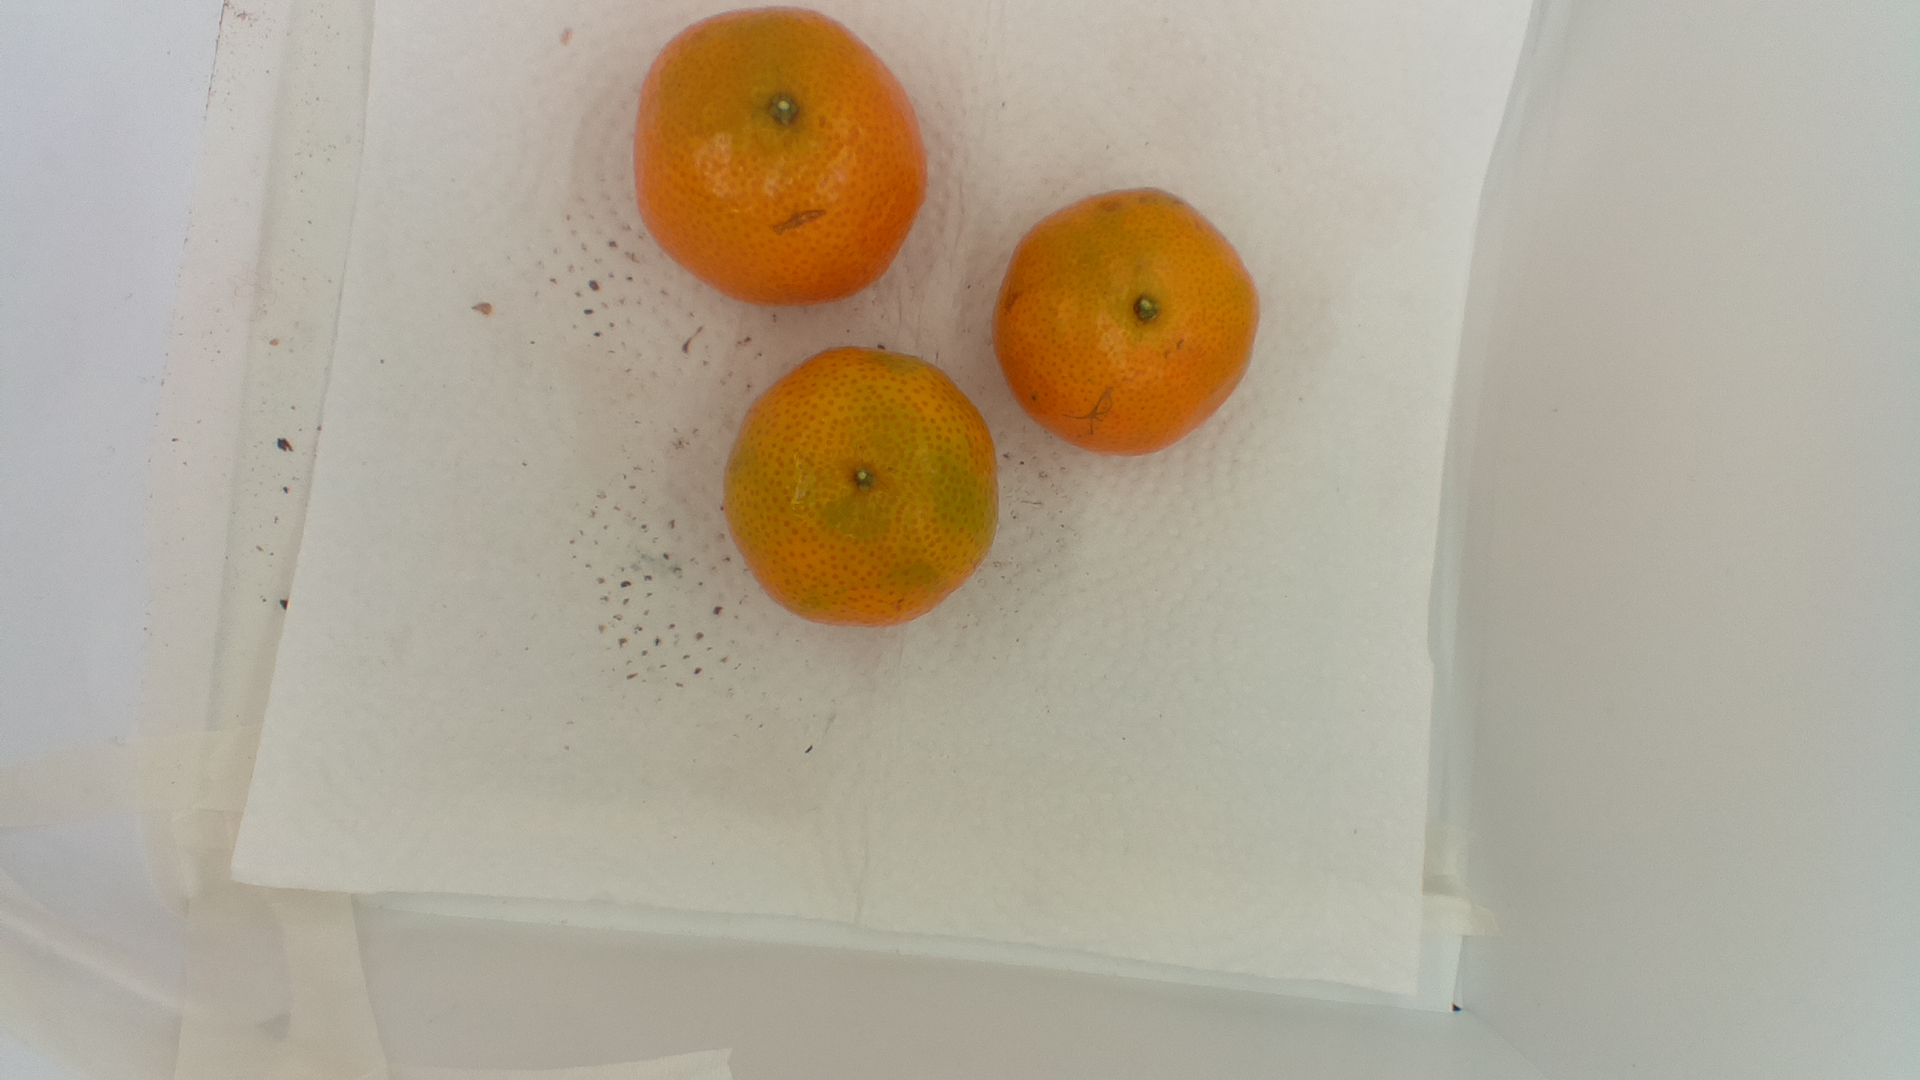fruit: (628, 1, 936, 313), (723, 339, 1004, 638), (989, 186, 1266, 463)
